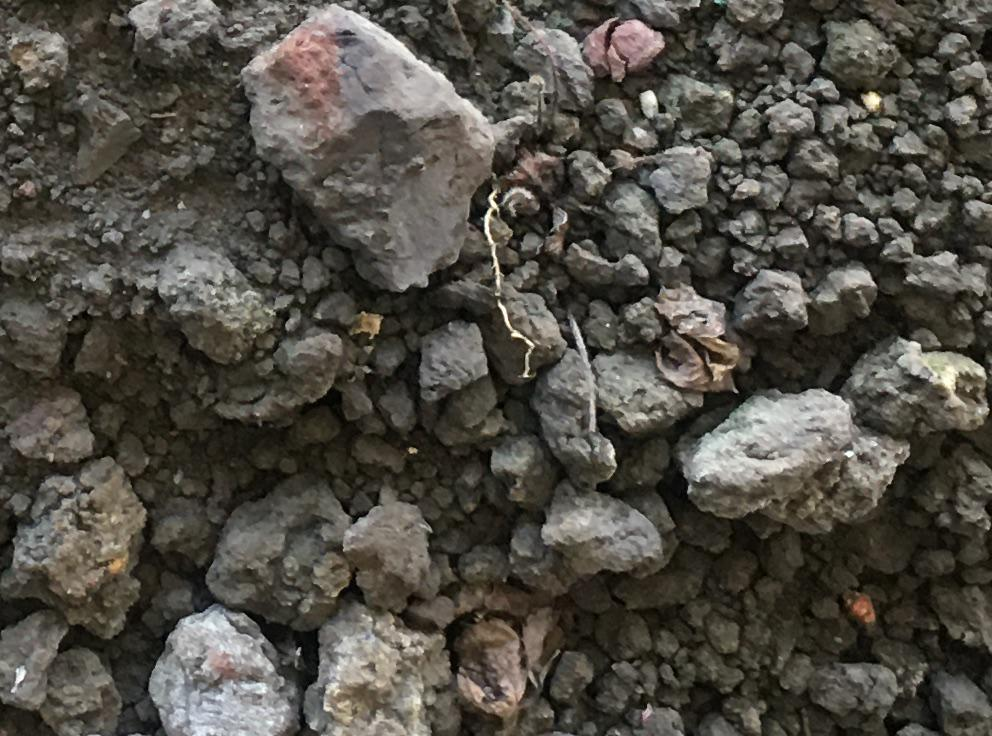block: (239, 7, 497, 288), (683, 383, 904, 537), (8, 459, 143, 644), (204, 477, 348, 633), (301, 602, 462, 736), (150, 612, 296, 736)
